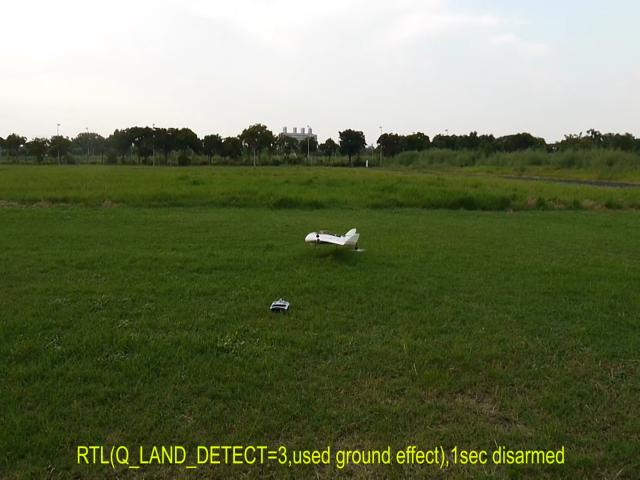plane: (305, 229, 365, 256)
